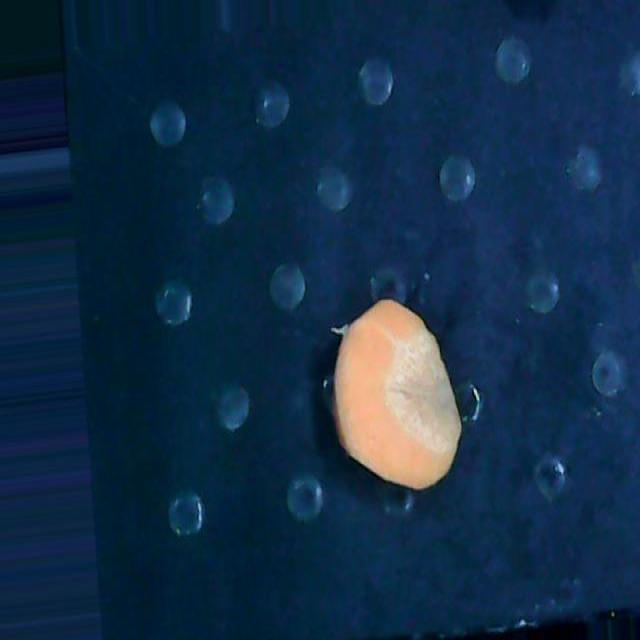-Kitchen waste - carrot-: (334, 294, 462, 490)
